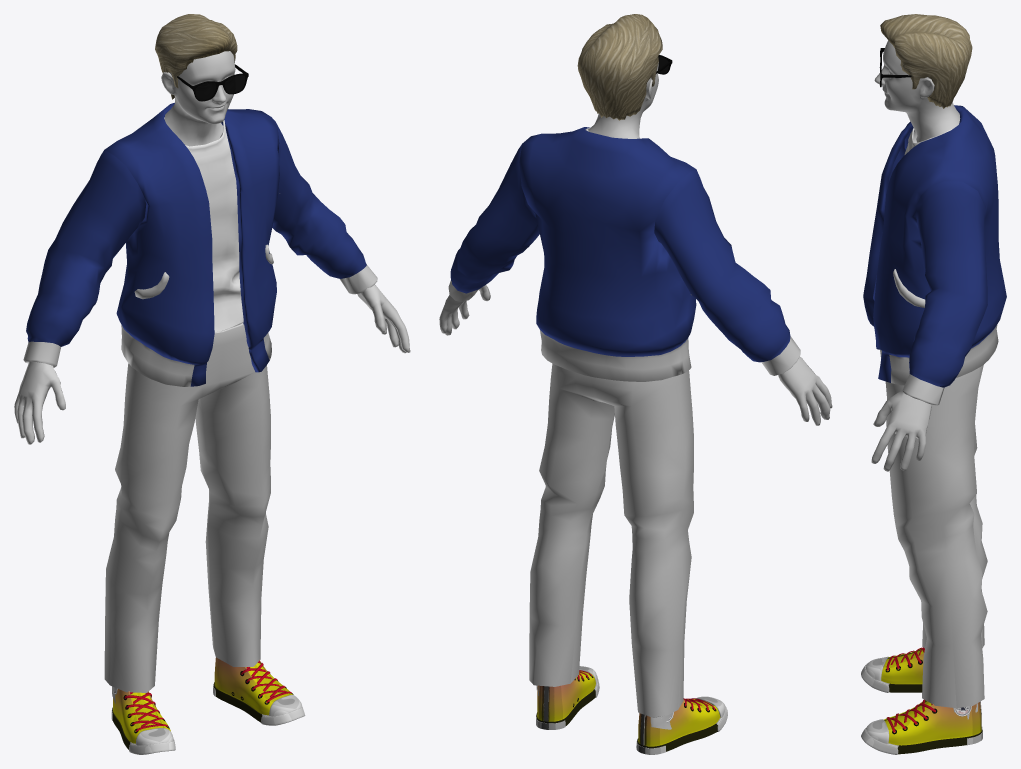
File: man3.fbx
The picture shows the model from 3 angles, left to right: view 1: azimuth 30°, elevation 25°; view 2: azimuth 150°, elevation 25°; view 3: azimuth 270°, elevation 25°; orthographic projection.
Parts seen in each view (by area): view 1: Wolf3D_Outfit_Bottom.001, Wolf3D_Outfit_Top, Wolf3D_Outfit_Top.011, Sneakers.002, Ch12.003, Wolf3D_Head.001, Wolf3D_Body.001, Wolf3D_Outfit_Top.012, Hair.001; view 2: Wolf3D_Outfit_Bottom.001, Wolf3D_Outfit_Top, Wolf3D_Outfit_Top.011, Hair.001, Sneakers.002, Wolf3D_Outfit_Top.012, Wolf3D_Body.001, Wolf3D_Head.001; view 3: Wolf3D_Outfit_Bottom.001, Wolf3D_Outfit_Top, Wolf3D_Outfit_Top.011, Sneakers.002, Hair.001, Wolf3D_Head.001, Wolf3D_Body.001, Wolf3D_Outfit_Top.012, Wolf3D_Outfit_Top.010.
Boxes of the visible parts, bbox=[...] form: Wolf3D_Outfit_Bottom.001: bbox=[104, 322, 270, 703]; Wolf3D_Outfit_Top: bbox=[104, 102, 279, 386]; Wolf3D_Outfit_Top.011: bbox=[26, 117, 366, 346]; Sneakers.002: bbox=[111, 657, 305, 754]; Ch12.003: bbox=[164, 117, 279, 331]; Wolf3D_Head.001: bbox=[161, 51, 235, 146]; Wolf3D_Body.001: bbox=[14, 284, 410, 444]; Wolf3D_Outfit_Top.012: bbox=[23, 264, 377, 386]; Hair.001: bbox=[155, 14, 237, 99]; Wolf3D_Outfit_Bottom.001: bbox=[529, 363, 693, 729]; Wolf3D_Outfit_Top: bbox=[519, 127, 696, 356]; Wolf3D_Outfit_Top.011: bbox=[450, 144, 790, 362]; Hair.001: bbox=[577, 14, 662, 120]; Sneakers.002: bbox=[536, 666, 727, 754]; Wolf3D_Outfit_Top.012: bbox=[448, 280, 800, 381]; Wolf3D_Body.001: bbox=[439, 285, 832, 425]; Wolf3D_Head.001: bbox=[588, 62, 658, 138]; Wolf3D_Outfit_Bottom.001: bbox=[880, 349, 987, 719]; Wolf3D_Outfit_Top: bbox=[863, 105, 1006, 382]; Wolf3D_Outfit_Top.011: bbox=[904, 128, 987, 387]; Sneakers.002: bbox=[861, 647, 982, 754]; Hair.001: bbox=[880, 14, 972, 108]; Wolf3D_Head.001: bbox=[874, 40, 960, 142]; Wolf3D_Body.001: bbox=[871, 391, 931, 471]; Wolf3D_Outfit_Top.012: bbox=[889, 325, 998, 405]; Wolf3D_Outfit_Top.010: bbox=[893, 269, 925, 307].
Size of the model in its own units: 1873 by 3288 by 622.
